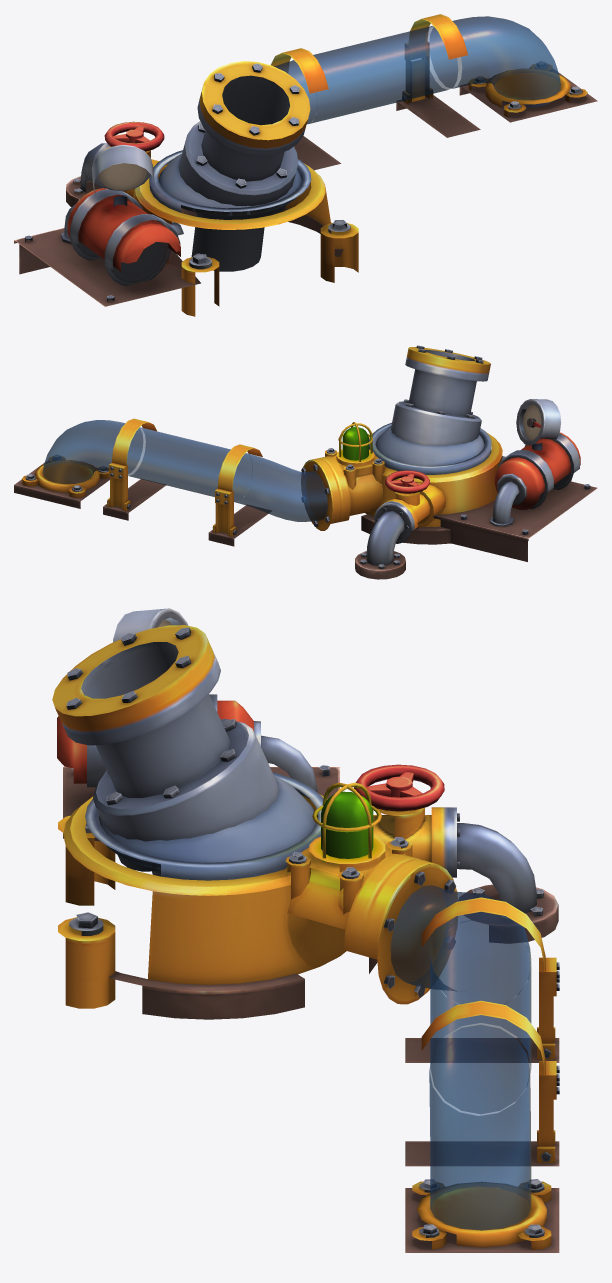
File: Cannon.fbx
3 renders of one model, top to bottom at view 1: azimuth 30°, elevation 25°; view 2: azimuth 150°, elevation 25°; view 3: azimuth 270°, elevation 25°, orthographic. The views are drawn at different scales.
Parts seen in each view (by area): view 1: cannon, cannon_tube, cannon_barrel, cannon_barrel_rotator, cannon_crane_handle; view 2: cannon, cannon_tube, cannon_barrel_rotator, cannon_barrel, cannon_crane_handle, cannon_lamp; view 3: cannon, cannon_tube, cannon_barrel, cannon_barrel_rotator, cannon_crane_handle, cannon_lamp.
Part boxes in pixels (bbox=[...]): cannon: bbox=[14, 14, 597, 316]; cannon_tube: bbox=[274, 16, 560, 124]; cannon_barrel: bbox=[191, 61, 310, 271]; cannon_barrel_rotator: bbox=[158, 121, 302, 219]; cannon_crane_handle: bbox=[104, 121, 164, 151]; cannon: bbox=[14, 399, 597, 579]; cannon_tube: bbox=[42, 420, 327, 521]; cannon_barrel_rotator: bbox=[375, 399, 484, 465]; cannon_barrel: bbox=[405, 345, 490, 416]; cannon_crane_handle: bbox=[385, 470, 430, 493]; cannon_lamp: bbox=[342, 426, 368, 460]; cannon: bbox=[57, 608, 559, 1252]; cannon_tube: bbox=[390, 885, 531, 1230]; cannon_barrel: bbox=[52, 625, 230, 876]; cannon_barrel_rotator: bbox=[93, 719, 316, 871]; cannon_crane_handle: bbox=[354, 764, 444, 811]; cannon_lamp: bbox=[321, 791, 373, 858].
Bounding box in the file's own units: 573 × 182 × 274.
